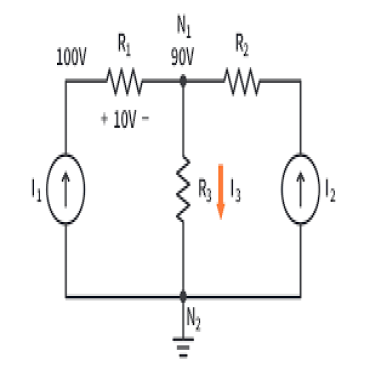Current Source: (30, 152, 86, 226), (280, 154, 337, 226)
Voltage Source: (173, 153, 213, 226), (105, 33, 144, 96), (223, 33, 260, 96)
